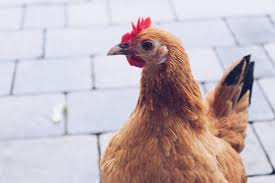nontarget: (97, 6, 265, 183)
